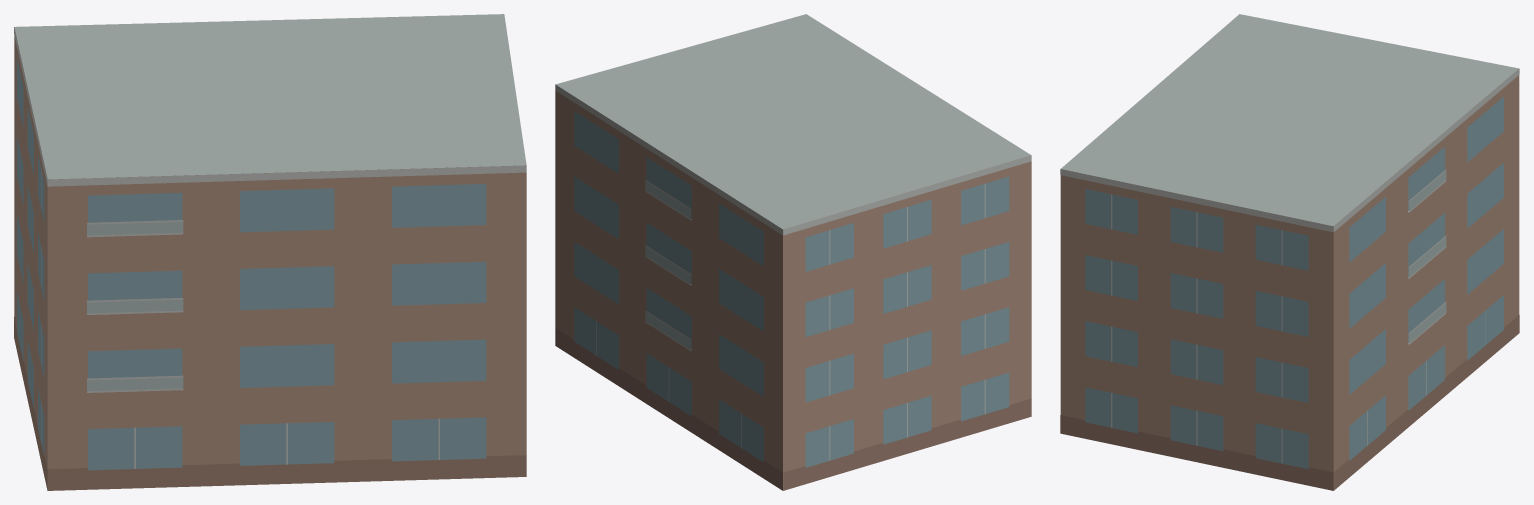
The model's file is survey-upis-32819339.glb.
The picture shows the model from 3 angles, left to right: view 1: azimuth 30°, elevation 25°; view 2: azimuth 150°, elevation 25°; view 3: azimuth 270°, elevation 25°; orthographic projection. The views are drawn at different scales.
Visible parts, largest first — view 1: survey-upis-32819339.tmp; view 2: survey-upis-32819339.tmp; view 3: survey-upis-32819339.tmp.
Boxes of the visible parts, x1=… form: survey-upis-32819339.tmp: x1=14, y1=14, x2=526, y2=490; survey-upis-32819339.tmp: x1=555, y1=14, x2=1031, y2=490; survey-upis-32819339.tmp: x1=1060, y1=14, x2=1519, y2=490.
Bounding box in the file's own units: 18.23 × 10.59 × 16.66.
